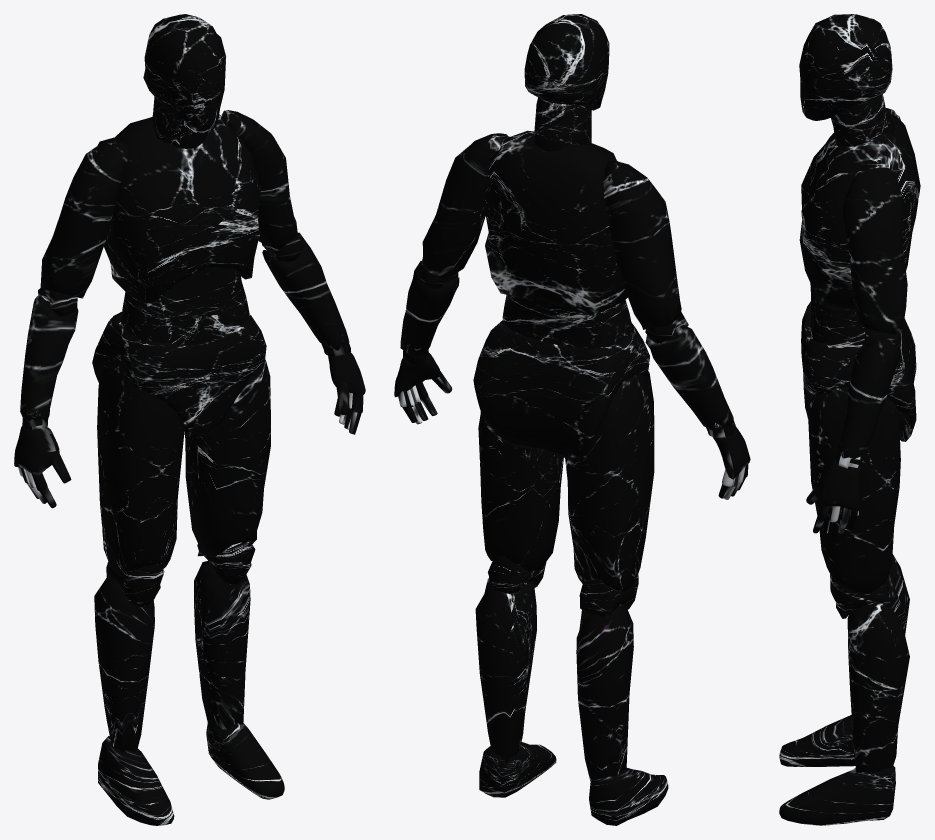
The model's file is Maniquie_Malo.fbx.
3 renders of one model, left to right at view 1: azimuth 30°, elevation 25°; view 2: azimuth 150°, elevation 25°; view 3: azimuth 270°, elevation 25°, orthographic.
Parts seen in each view (by area): view 1: Cube.017; view 2: Cube.017; view 3: Cube.017.
Part boxes in pixels (bbox=[...]): Cube.017: bbox=[14, 14, 365, 825]; Cube.017: bbox=[394, 14, 750, 825]; Cube.017: bbox=[779, 14, 920, 825].
Size of the model in its own units: 83.14 by 180 by 29.89.
1 material, 1 textured.
